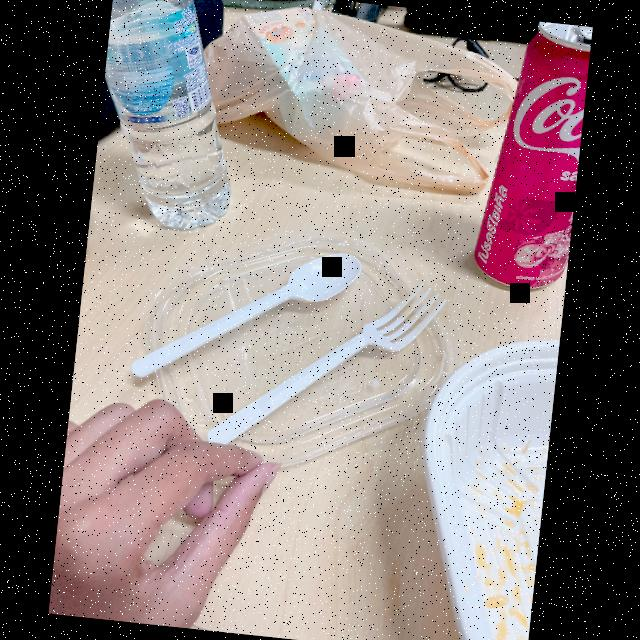plastic_spoon: (203, 262, 452, 476), (129, 226, 366, 398)
